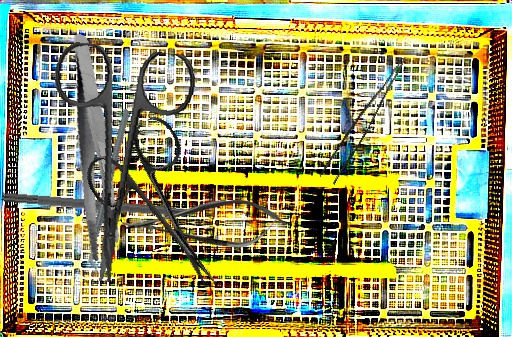Chopper: (34, 107, 186, 272)
Dressing Forceps: (39, 33, 150, 264)
Hook Surgical: (0, 191, 225, 224)
Iris Scissors: (29, 39, 199, 290), (76, 111, 255, 312)
Micro Scissor: (120, 198, 287, 248)
Tissue Forceps: (319, 49, 406, 187)
